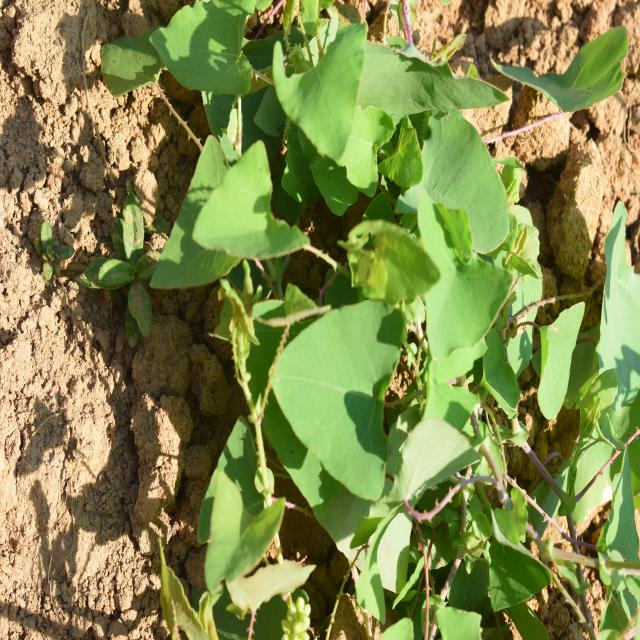Asiatic_Smartweed: (260, 254, 482, 544), (370, 64, 520, 374), (156, 124, 321, 296)
